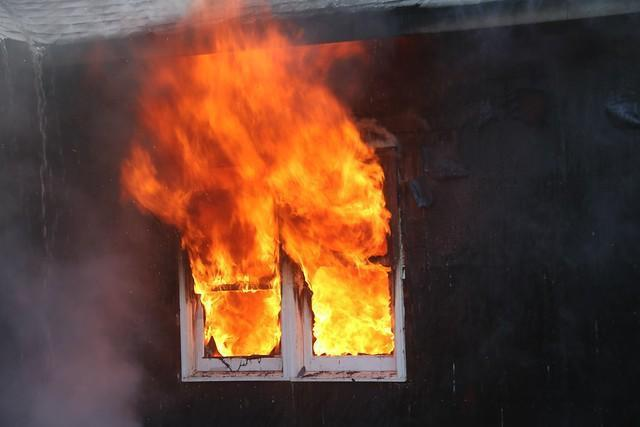fire: (112, 14, 416, 369)
